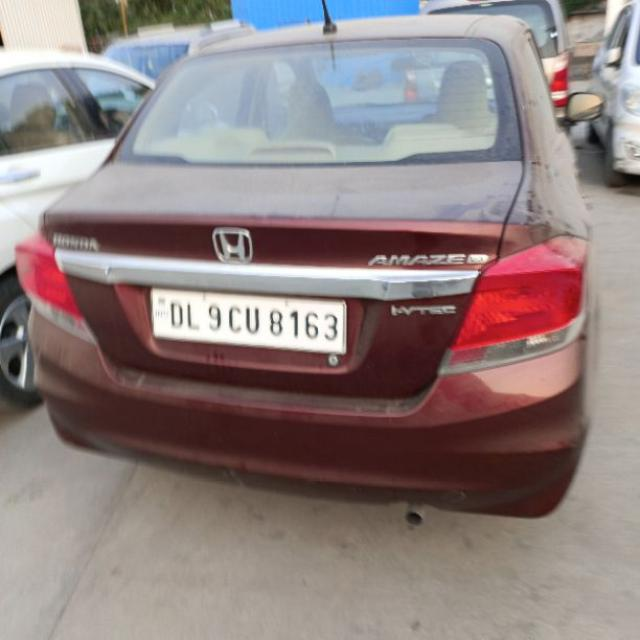license_plate: (148, 286, 347, 354)
